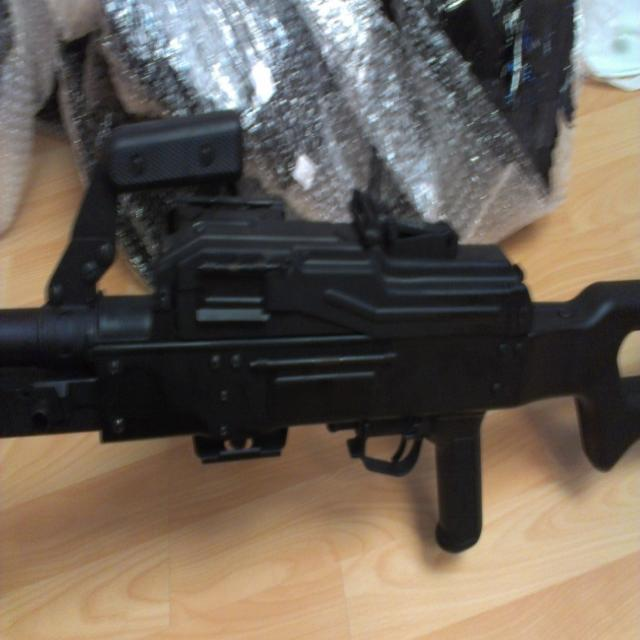firearm: (0, 108, 640, 556)
